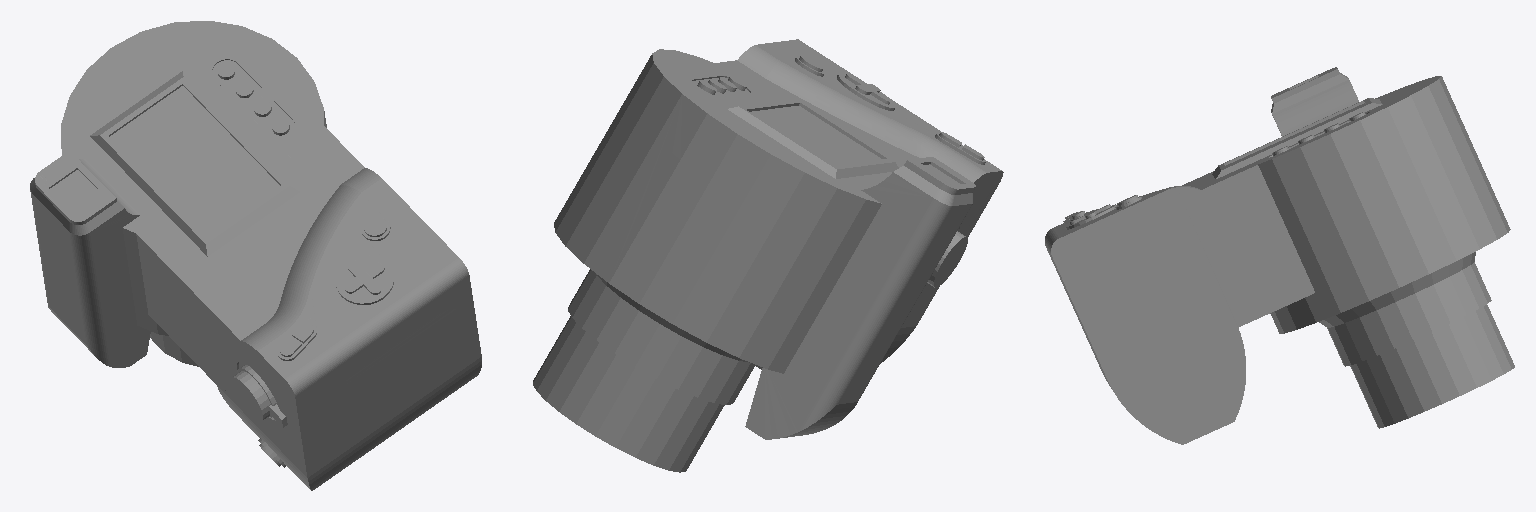
URDF robot description (cube.urdf):
<?xml version="0.0" ?> 
<robot name="cube.urdf"> 
<link name="legobrick"> 
<contact> 
<lateral_friction value="1.0"/>
<rolling_friction value="0.0"/>
<contact_cfm value="0.0"/>
<contact_erp value="1.0"/>
</contact> 
<inertial> 
<origin rpy="0 0 0" xyz="0.0 0.0 0.0"/> 
<mass value="0.1"/> 
<inertia ixx="1" ixy="0" ixz="0" iyy="1" iyz="0" izz="1"/> 
</inertial> 
<visual> 
<origin rpy="1.570796 0 0" xyz="0.000791483372003117 0.006274036865171466 -0.0011133928847641091"/> 
<geometry> 
<mesh filename="48e26e789524c158e1e4b7162e96446c.obj" scale="1 1 1"/> 
</geometry> 
<material name="yellow"> 
<color rgba="0.6 0.6 0.6 1"/> 
</material> 
</visual> 
<collision> 
<origin rpy="1.570796 0 0" xyz="0.000791483372003117 0.006274036865171466 -0.0011133928847641091"/> 
<geometry> 
<mesh filename="48e26e789524c158e1e4b7162e96446c_col.obj" scale="1 1 1"/> 
</geometry> 
</collision> 
</link> 
</robot>

--- Render facts (derived) ---
3 views of the same robot in one strip: view 1: azimuth 30°, elevation 25°; view 2: azimuth 150°, elevation 25°; view 3: azimuth 270°, elevation 25° (orthographic).
Model cube.urdf with 1 links and 0 joints (none), rooted at legobrick, posed every joint at zero.
Visible links, largest first — view 1: legobrick; view 2: legobrick; view 3: legobrick.
Boxes of the visible links, x1,y1,x2,y2 form: legobrick: [30, 21, 481, 490]; legobrick: [533, 39, 1003, 472]; legobrick: [1045, 67, 1514, 444].
Bounding box of the posed robot: 0.0448 × 0.0548 × 0.045 m (x, y, z).
1 mesh visuals loaded from 1 distinct referenced files (1 OBJ).